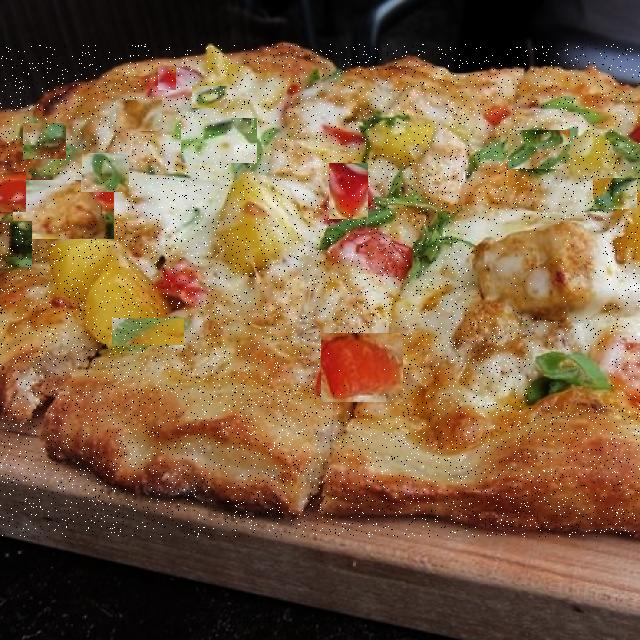Chicken: (471, 222, 603, 318), (14, 180, 116, 239), (116, 100, 162, 131)
Pizza: (0, 45, 640, 537)
Red Pepper: (321, 334, 403, 404), (329, 163, 368, 219), (0, 172, 26, 212), (158, 66, 176, 90)
Rucola: (531, 350, 609, 404), (181, 118, 257, 163), (508, 130, 570, 169), (112, 318, 184, 345), (82, 153, 129, 192), (23, 123, 68, 159), (0, 221, 32, 268), (600, 126, 640, 161), (593, 178, 637, 209), (192, 86, 227, 108)
